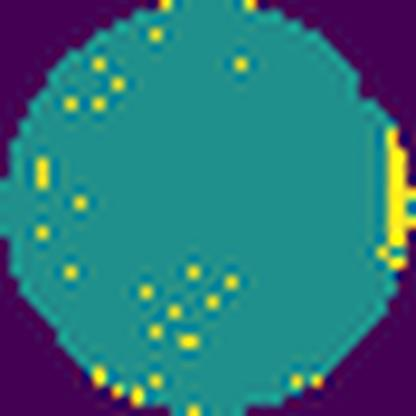Edge-Loc: (381, 126, 415, 268)
